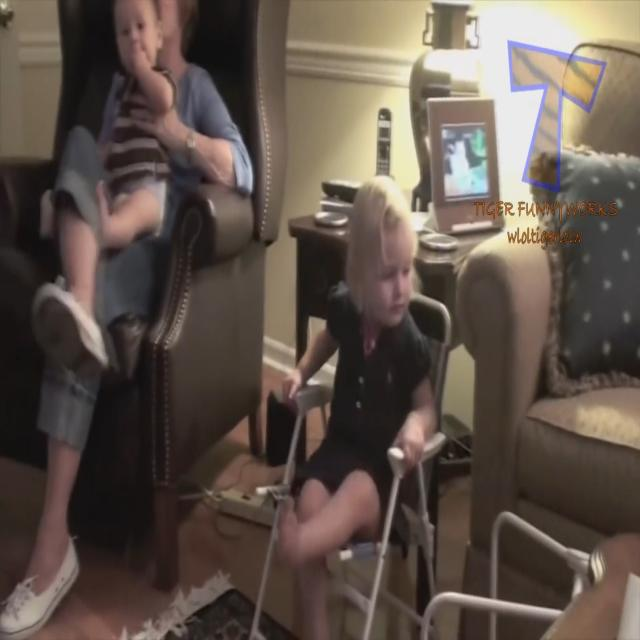safe: (331, 164, 424, 520), (103, 0, 165, 249)
